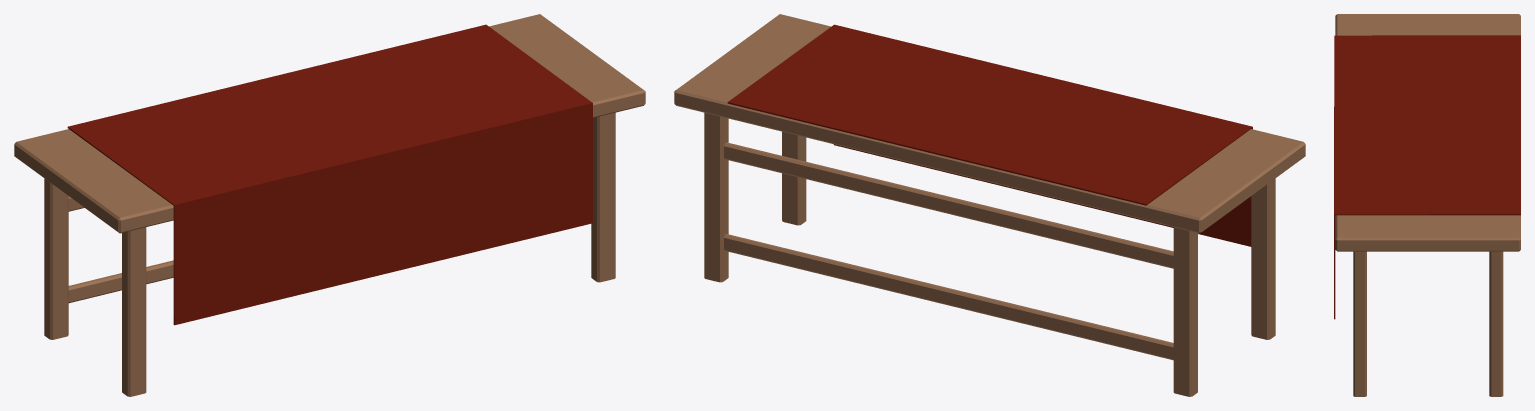
The model's file is Table_3.fbx.
3 views of the same model, side by side, from view 1: azimuth 30°, elevation 25°; view 2: azimuth 150°, elevation 25°; view 3: azimuth 270°, elevation 25° (orthographic). The views are drawn at different scales.
Visible parts, largest first — view 1: Table_3; view 2: Table_3; view 3: Table_3.
Part boxes in pixels (x1,y1,x2,y2): Table_3: [14, 14, 645, 396]; Table_3: [674, 14, 1305, 396]; Table_3: [1334, 14, 1520, 396].
Bounding box in the file's own units: 169 × 58.8 × 59.23.
